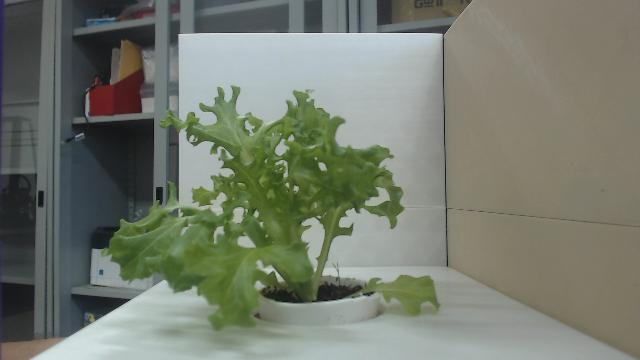Harvest Stage: (100, 83, 443, 333)
